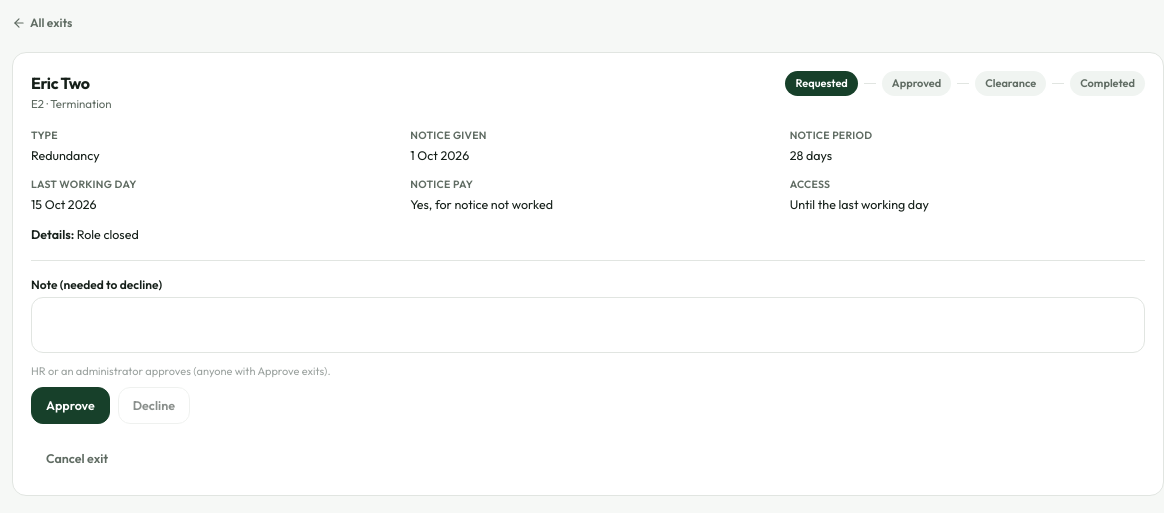
Test: ExitDetail › a request awaits approval: approve, or decline with a note
Later steps or results of the test are not shown.
Expected: the heading "Eric Two" is shown, [31,73,90,93]
Expected: the text "Redundancy" is shown, [31,147,100,163]
Step 1. Type "Keep the role" into the text box labelled "Note (needed to decline)" → (588, 325), box [31,297,1145,352]
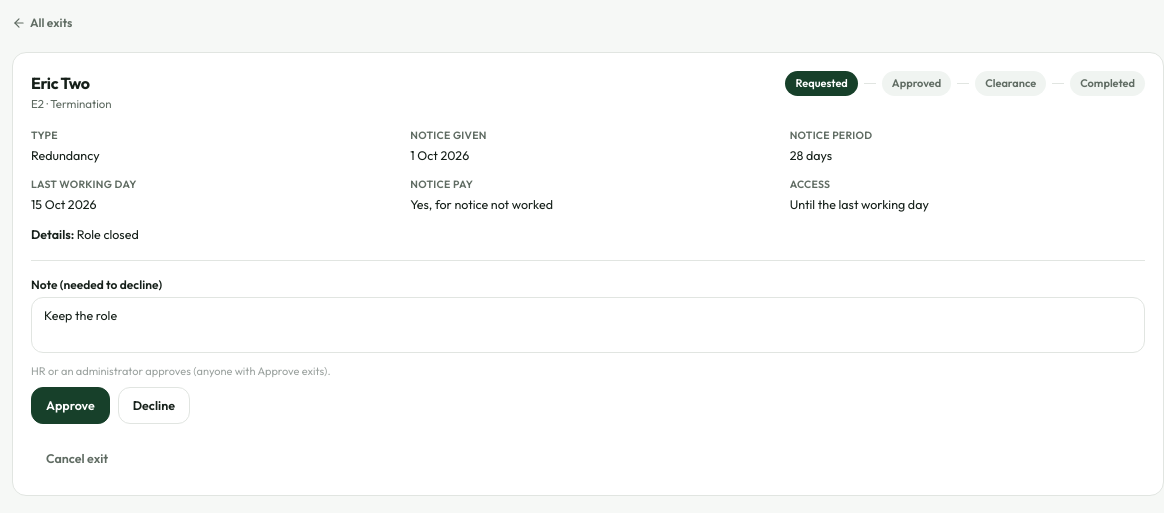
Now the button "Decline" is enabled, box [118,387,190,424]
